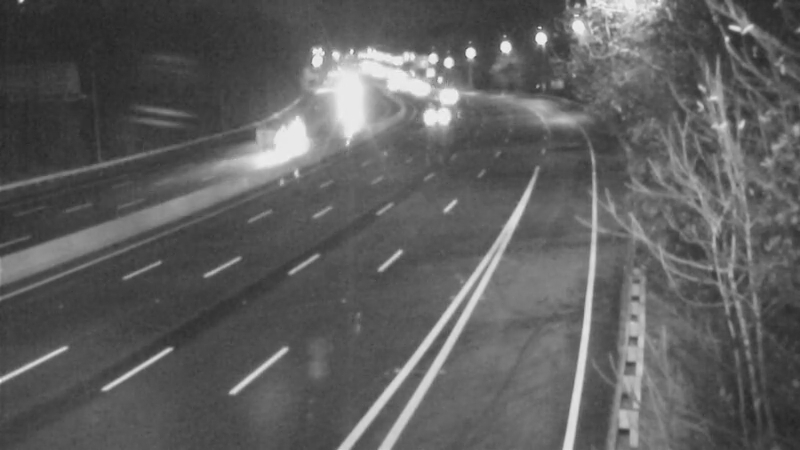vehicle: (421, 69, 471, 119), (407, 94, 457, 144), (258, 112, 308, 162)
